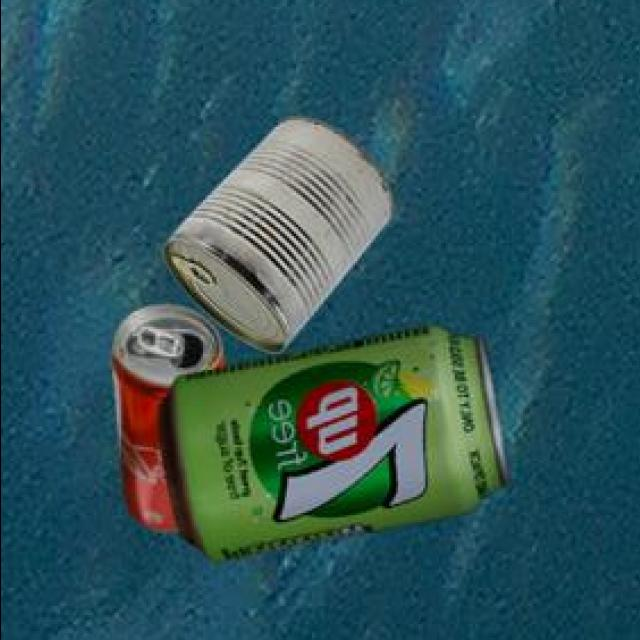logam: (155, 323, 505, 557), (158, 112, 389, 348), (108, 301, 219, 527)
